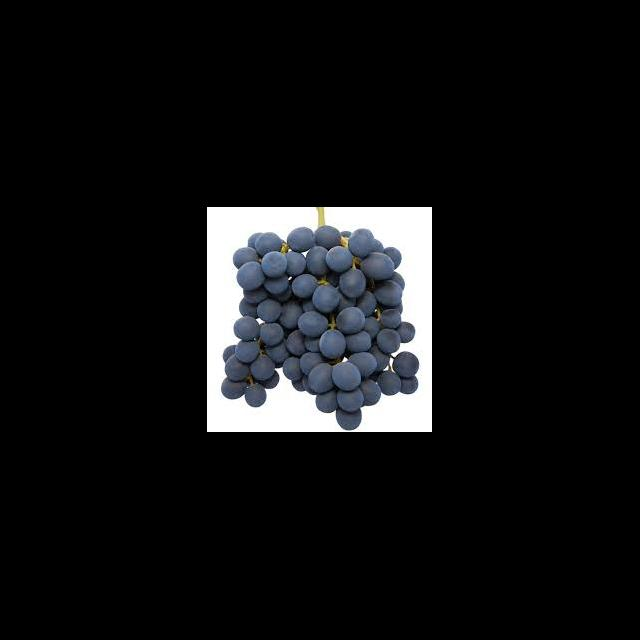grape: (220, 224, 420, 430)
